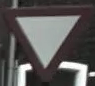Give way: (3, 5, 82, 74)
